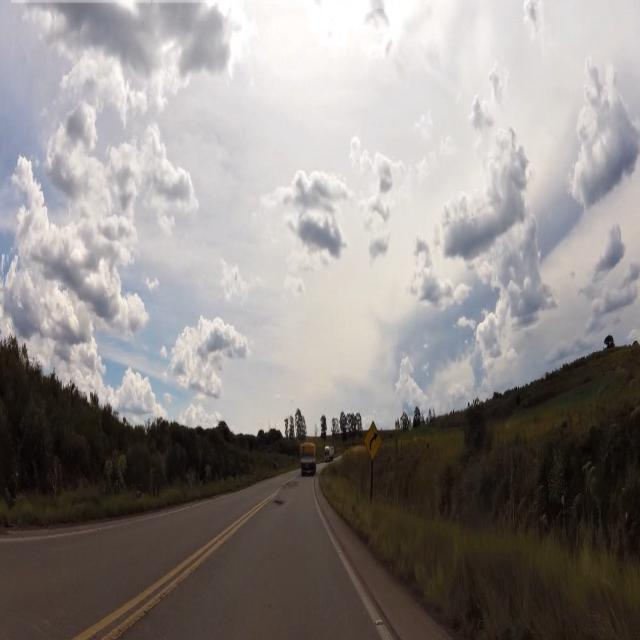A-2b: (362, 420, 385, 463)
